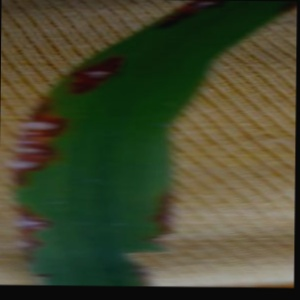Brown_Spot: (57, 48, 120, 106), (152, 0, 239, 35), (14, 107, 79, 138), (4, 152, 59, 178), (7, 137, 67, 159), (14, 212, 55, 241), (3, 231, 49, 255)
